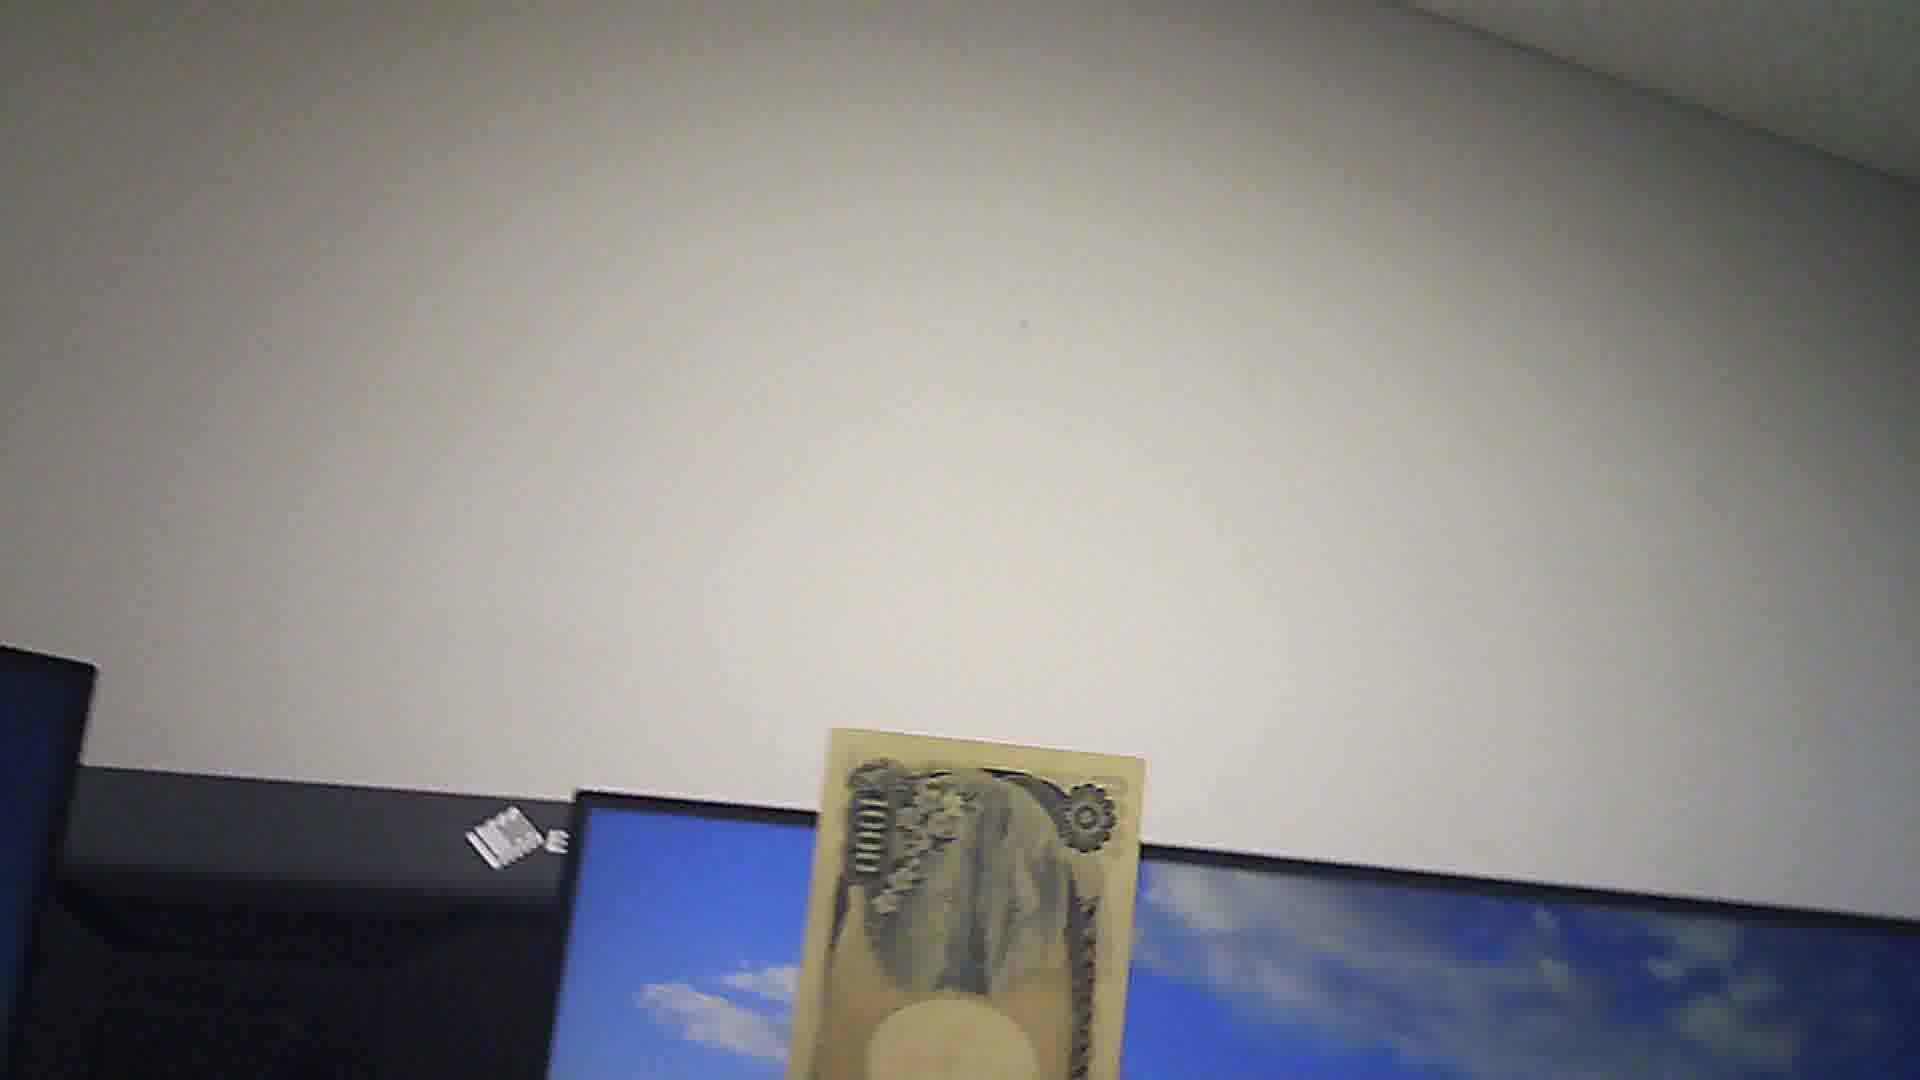1,000 Yen: (789, 712, 1135, 1079)
